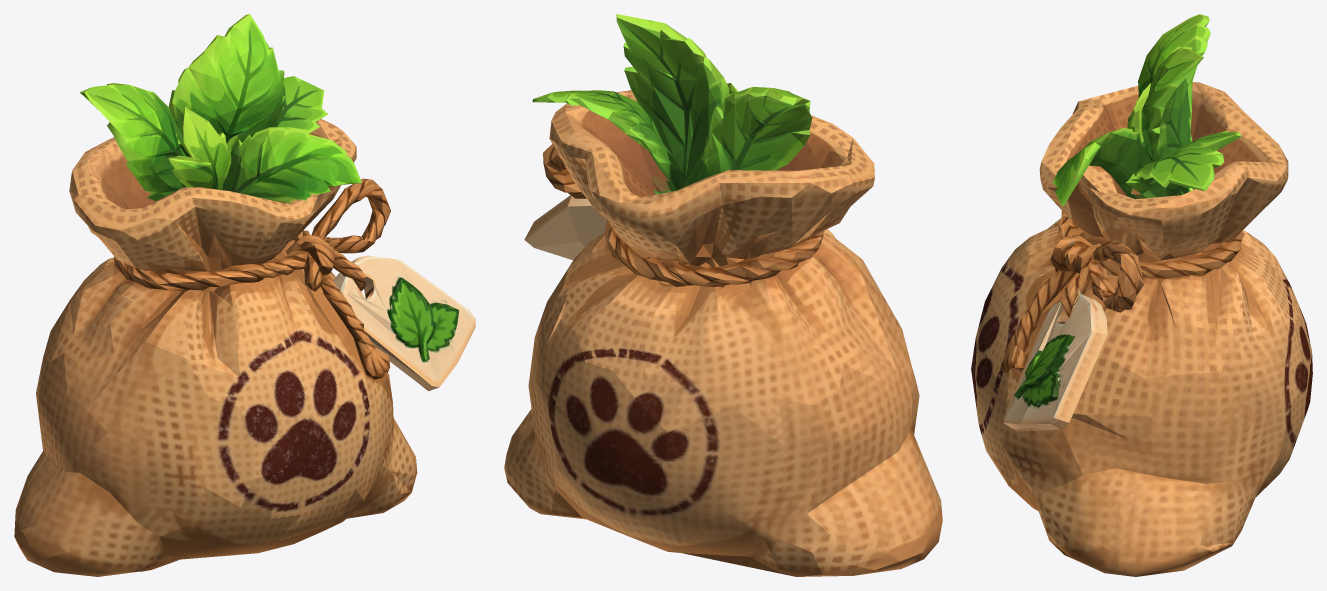
File: Catnip.fbx
The picture shows the model from 3 angles, left to right: view 1: azimuth 30°, elevation 25°; view 2: azimuth 150°, elevation 25°; view 3: azimuth 270°, elevation 25°; orthographic projection. The views are drawn at different scales.
Parts seen in each view (by area): view 1: output_unwrapped; view 2: output_unwrapped; view 3: output_unwrapped.
Part boxes in pixels (bbox=[...]): output_unwrapped: bbox=[14, 14, 475, 576]; output_unwrapped: bbox=[504, 14, 942, 576]; output_unwrapped: bbox=[971, 14, 1312, 576].
Bounding box in the file's own units: 175 × 190 × 127.
1 material, 1 textured.
